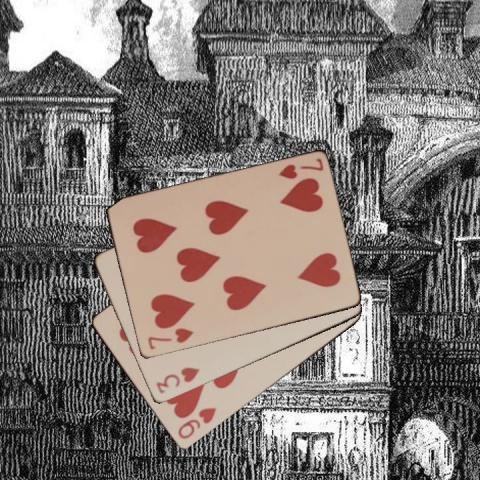3h: (153, 364, 201, 395)
7h: (275, 155, 325, 181), (145, 326, 194, 352)
9h: (175, 405, 218, 441)
